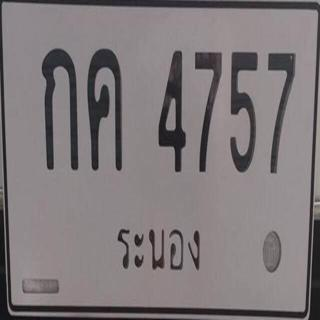A01: (36, 44, 84, 177)
A04: (82, 41, 129, 180)
N04: (153, 47, 190, 177)
N05: (226, 44, 265, 178)
N07: (264, 47, 298, 178), (190, 48, 224, 175)
P51: (116, 218, 207, 279)
